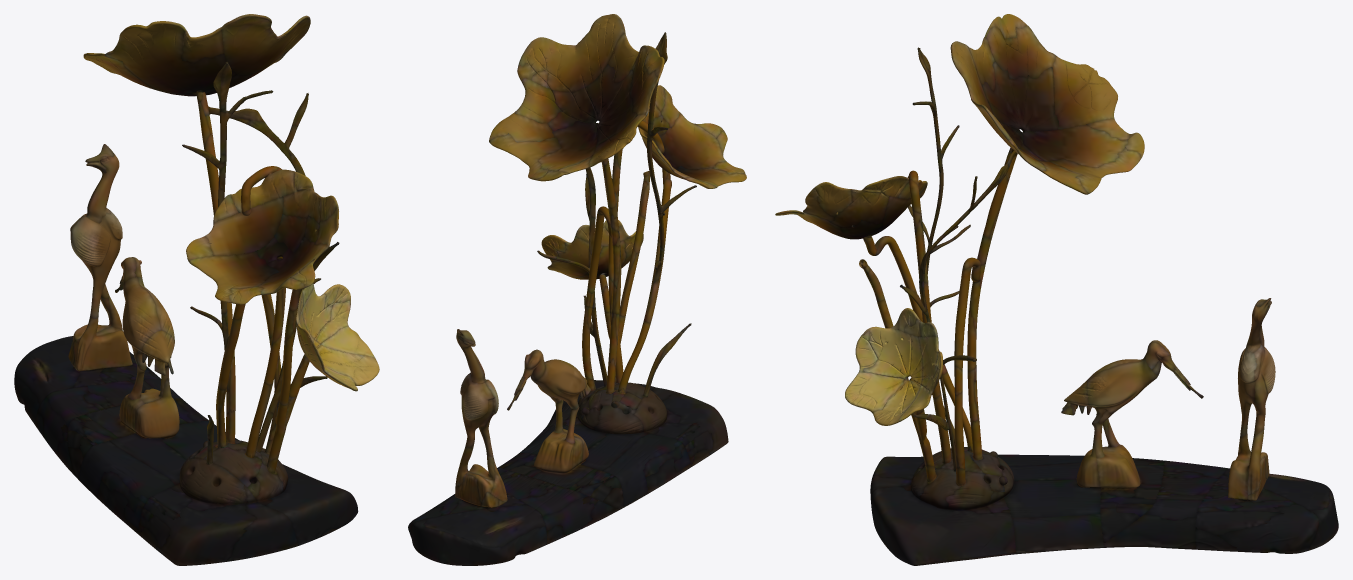
File: bronze-bird.glb
The picture shows the model from 3 angles, left to right: view 1: azimuth 30°, elevation 25°; view 2: azimuth 150°, elevation 25°; view 3: azimuth 270°, elevation 25°; orthographic projection. The views are drawn at different scales.
Parts seen in each view (by area): view 1: tripo_node_311cc1fb-d057-49db-985c-64f71fa4d355; view 2: tripo_node_311cc1fb-d057-49db-985c-64f71fa4d355; view 3: tripo_node_311cc1fb-d057-49db-985c-64f71fa4d355.
Part boxes in pixels (x1,y1,x2,y2): tripo_node_311cc1fb-d057-49db-985c-64f71fa4d355: (14, 14, 379, 565); tripo_node_311cc1fb-d057-49db-985c-64f71fa4d355: (408, 14, 746, 565); tripo_node_311cc1fb-d057-49db-985c-64f71fa4d355: (775, 14, 1338, 565).
Bounding box in the file's own units: 0.3871 × 0.9269 × 0.9806.
Materials: 1 (1 with a texture image).
